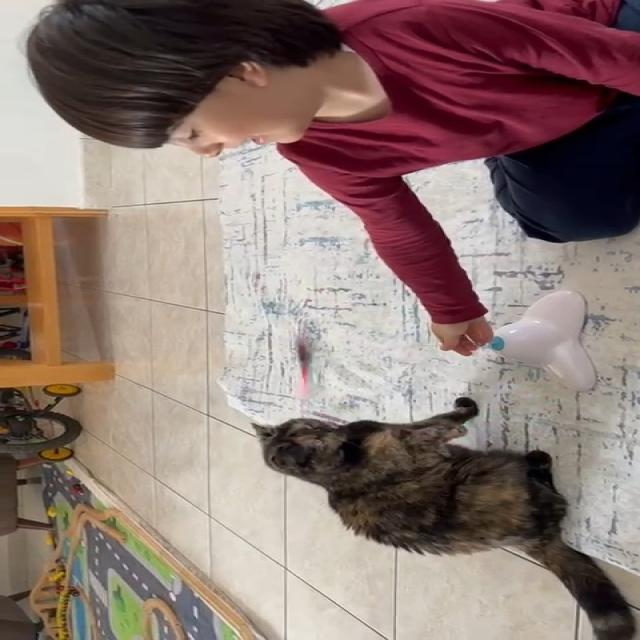authorized: (249, 396, 636, 639)
